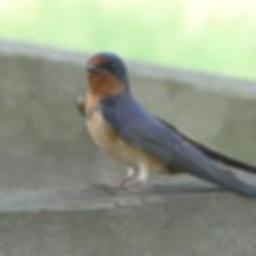Swallow: (74, 48, 256, 202)
